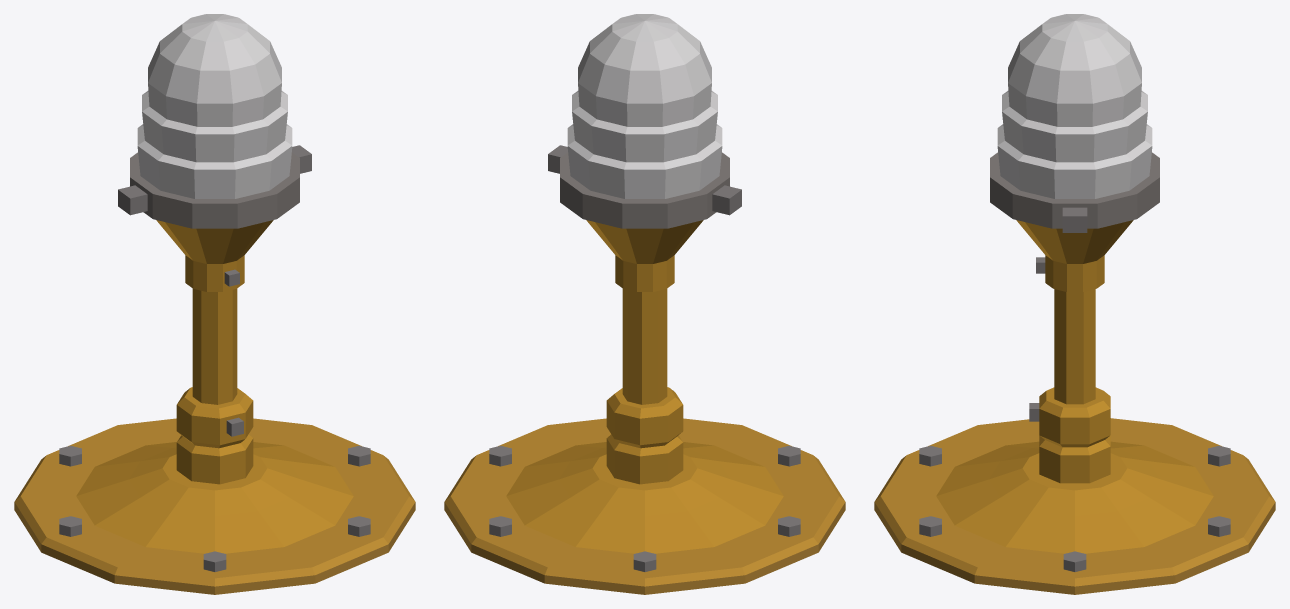
The model's file is runway-edge-light-run-ebe7e1.glb.
3 renders of one model, left to right at view 1: azimuth 30°, elevation 25°; view 2: azimuth 150°, elevation 25°; view 3: azimuth 270°, elevation 25°, orthographic.
Visible parts, largest first — view 1: runway-edge-light; view 2: runway-edge-light; view 3: runway-edge-light.
Part boxes in pixels (left/top/right/bottom): runway-edge-light: left=14, top=14, right=415, bottom=594; runway-edge-light: left=444, top=14, right=845, bottom=594; runway-edge-light: left=874, top=14, right=1275, bottom=594.
Bounding box in the file's own units: 0.26 × 0.35 × 0.26.
